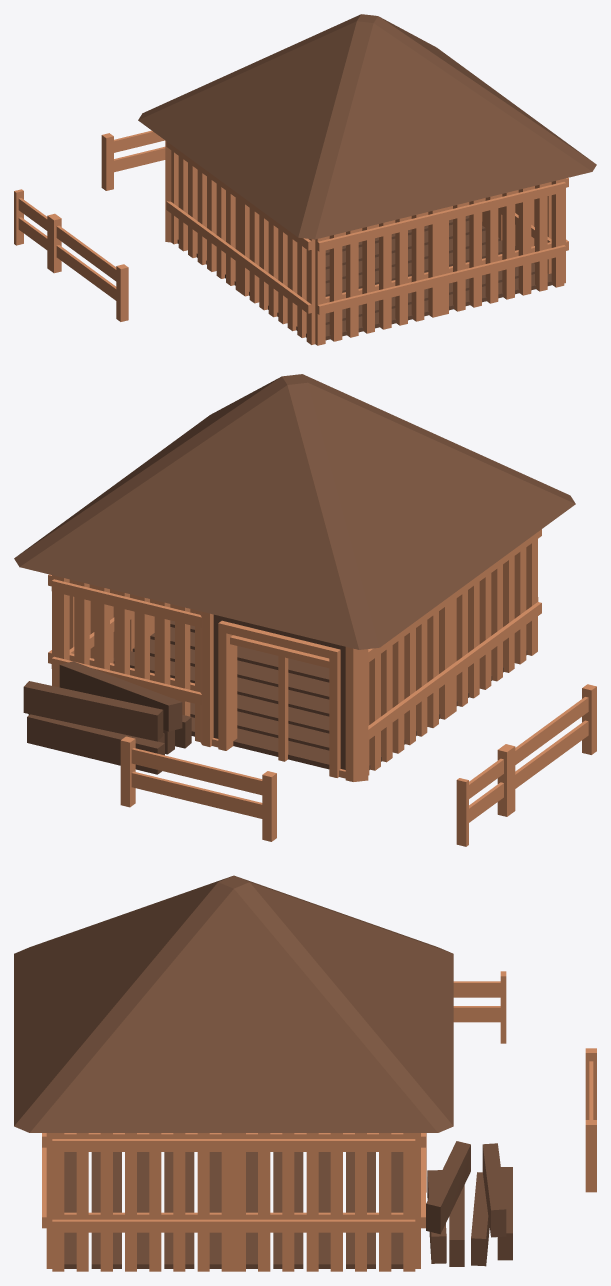
File: Cabane.fbx
3 views of the same model, one above another, from view 1: azimuth 30°, elevation 25°; view 2: azimuth 150°, elevation 25°; view 3: azimuth 270°, elevation 25° (orthographic). The views are drawn at different scales.
Visible parts, largest first — view 1: roof_point_32, door_gate_29, door_gate_30, door_gate_27, door_gate_28, fence_wood_36, fence_wood_38, planks_floor_22, fence_wood_37, planks_floor_23, door_gate_25, wall_paperDoorWidePillar_41 (+1 smaller); view 2: roof_point_32, wall_paperDoorWidePillar_41, door_gate_31, debris_wood_39, door_gate_27, door_gate_28, fence_wood_38, planks_floor_24, fence_wood_36, fence_wood_37, planks_floor_21, door_gate_26 (+1 smaller); view 3: roof_point_32, door_gate_25, door_gate_26, debris_wood_39, planks_floor_22, planks_floor_21, planks_floor_23, planks_floor_24, fence_wood_37, fence_wood_38, door_gate_30, door_gate_31.
Boxes of the visible parts, bbox=[...] form: roof_point_32: bbox=[138, 14, 596, 239]; door_gate_29: bbox=[315, 209, 442, 345]; door_gate_30: bbox=[441, 179, 565, 315]; door_gate_27: bbox=[237, 193, 315, 344]; door_gate_28: bbox=[166, 141, 240, 292]; fence_wood_36: bbox=[49, 215, 128, 321]; fence_wood_38: bbox=[101, 130, 165, 190]; planks_floor_22: bbox=[375, 230, 552, 310]; fence_wood_37: bbox=[14, 189, 56, 269]; planks_floor_23: bbox=[249, 261, 429, 340]; door_gate_25: bbox=[498, 178, 568, 283]; wall_paperDoorWidePillar_41: bbox=[165, 140, 171, 242]; roof_point_32: bbox=[14, 374, 575, 649]; wall_paperDoorWidePillar_41: bbox=[200, 611, 368, 781]; door_gate_31: bbox=[51, 575, 201, 741]; debris_wood_39: bbox=[23, 661, 191, 774]; door_gate_27: bbox=[450, 529, 541, 714]; door_gate_28: bbox=[368, 593, 454, 775]; fence_wood_38: bbox=[120, 736, 276, 841]; planks_floor_24: bbox=[233, 674, 440, 769]; fence_wood_36: bbox=[501, 684, 596, 814]; fence_wood_37: bbox=[456, 748, 509, 846]; planks_floor_21: bbox=[113, 639, 292, 736]; door_gate_26: bbox=[48, 574, 134, 686]; roof_point_32: bbox=[14, 875, 453, 1132]; door_gate_25: bbox=[52, 1133, 233, 1271]; door_gate_26: bbox=[234, 1133, 415, 1271]; debris_wood_39: bbox=[426, 1141, 512, 1266]; planks_floor_22: bbox=[64, 1187, 221, 1268]; planks_floor_21: bbox=[246, 1187, 403, 1268]; planks_floor_23: bbox=[64, 1152, 221, 1187]; planks_floor_24: bbox=[246, 1152, 403, 1187]; fence_wood_37: bbox=[453, 971, 506, 1043]; fence_wood_38: bbox=[585, 1048, 596, 1192]; door_gate_30: bbox=[42, 1133, 52, 1268]; door_gate_31: bbox=[415, 1133, 425, 1268].
Size of the model in its own units: 32.11 by 18.86 by 32.11.
